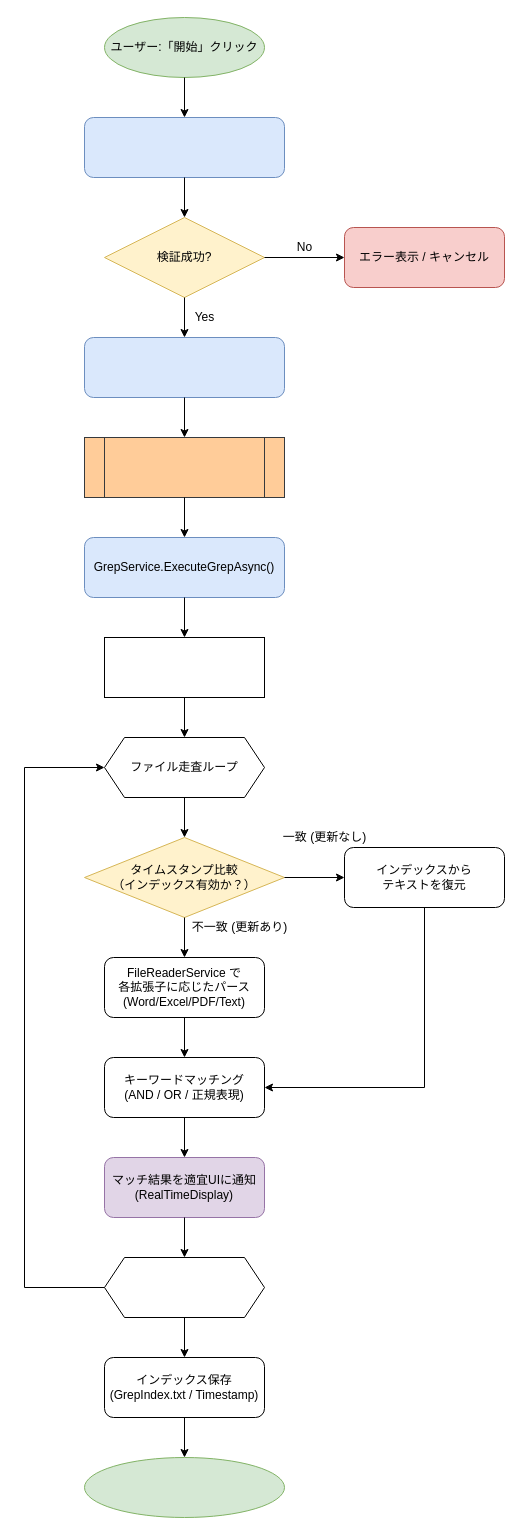
Image size: 522x1535. Some labels were removed from this diagram. The box of each missing label's shape, as (x1, y1, x2, y2) in pixels:
GrepSettingsDialogViewModel Validate(): (84, 116, 284, 178)
MainViewModel StartSearchAsync(): (84, 336, 284, 398)
Task.Run() (バックグラウンドスレッド): (84, 436, 284, 498)
キーワード検証 / インデックス削除(再構築時): (104, 636, 264, 698)
ループ終了: (104, 1256, 264, 1318)
完了 (UI更新/非リアルタイム結果反映): (84, 1456, 284, 1518)
